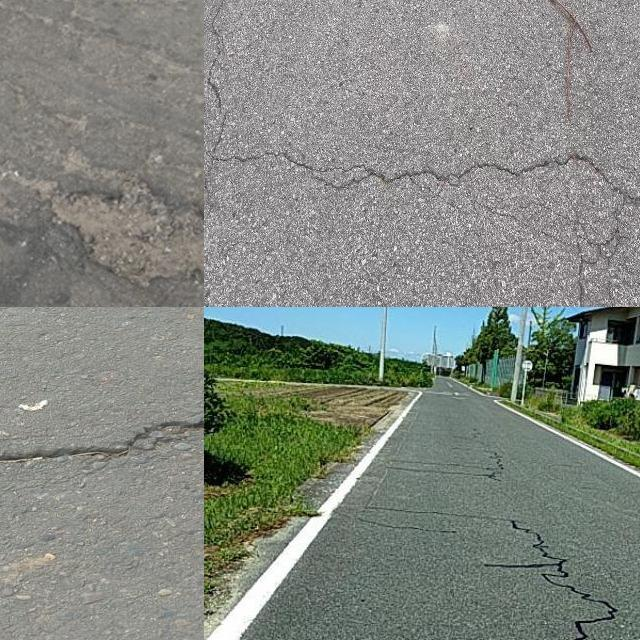Lubang: (42, 186, 204, 285)
Melintang: (209, 138, 640, 220), (0, 403, 204, 484)
Memanjang: (501, 515, 627, 640), (204, 0, 238, 200)
